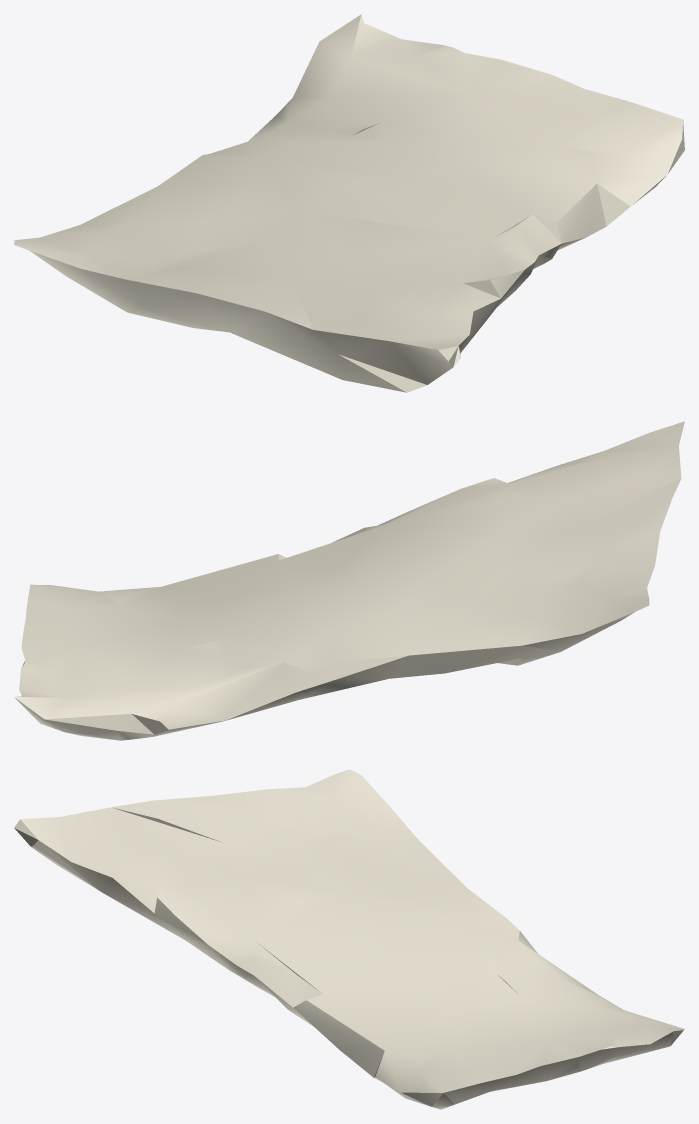
The model's file is fma44502_mm1370.glb.
The picture shows the model from 3 angles, top to bottom: view 1: azimuth 30°, elevation 25°; view 2: azimuth 150°, elevation 25°; view 3: azimuth 270°, elevation 25°; orthographic projection. The views are drawn at different scales.
Parts seen in each view (by area): view 1: FMA44502_MM1370; view 2: FMA44502_MM1370; view 3: FMA44502_MM1370.
Boxes of the visible parts, x1,y1,x2,y2 form: FMA44502_MM1370: (14, 14, 684, 392); FMA44502_MM1370: (14, 421, 684, 740); FMA44502_MM1370: (14, 769, 684, 1109).
Size of the model in its own units: 0.0131 by 0.00313 by 0.0148.
